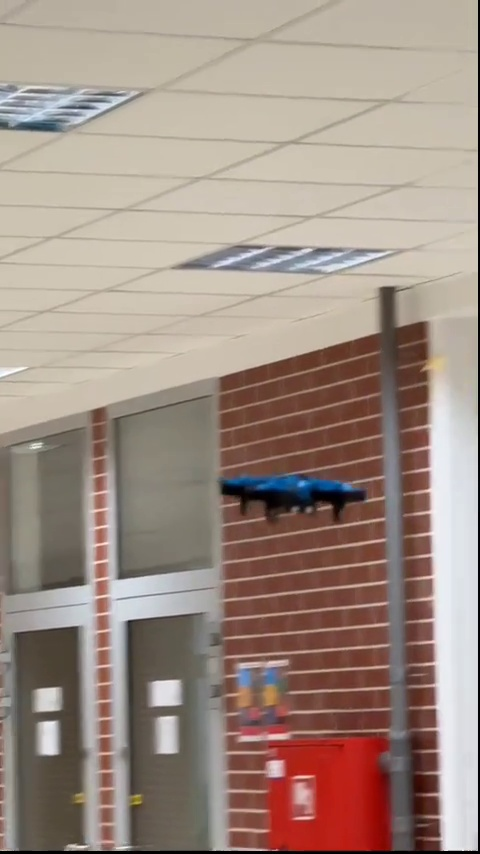drone: (218, 472, 363, 524)
